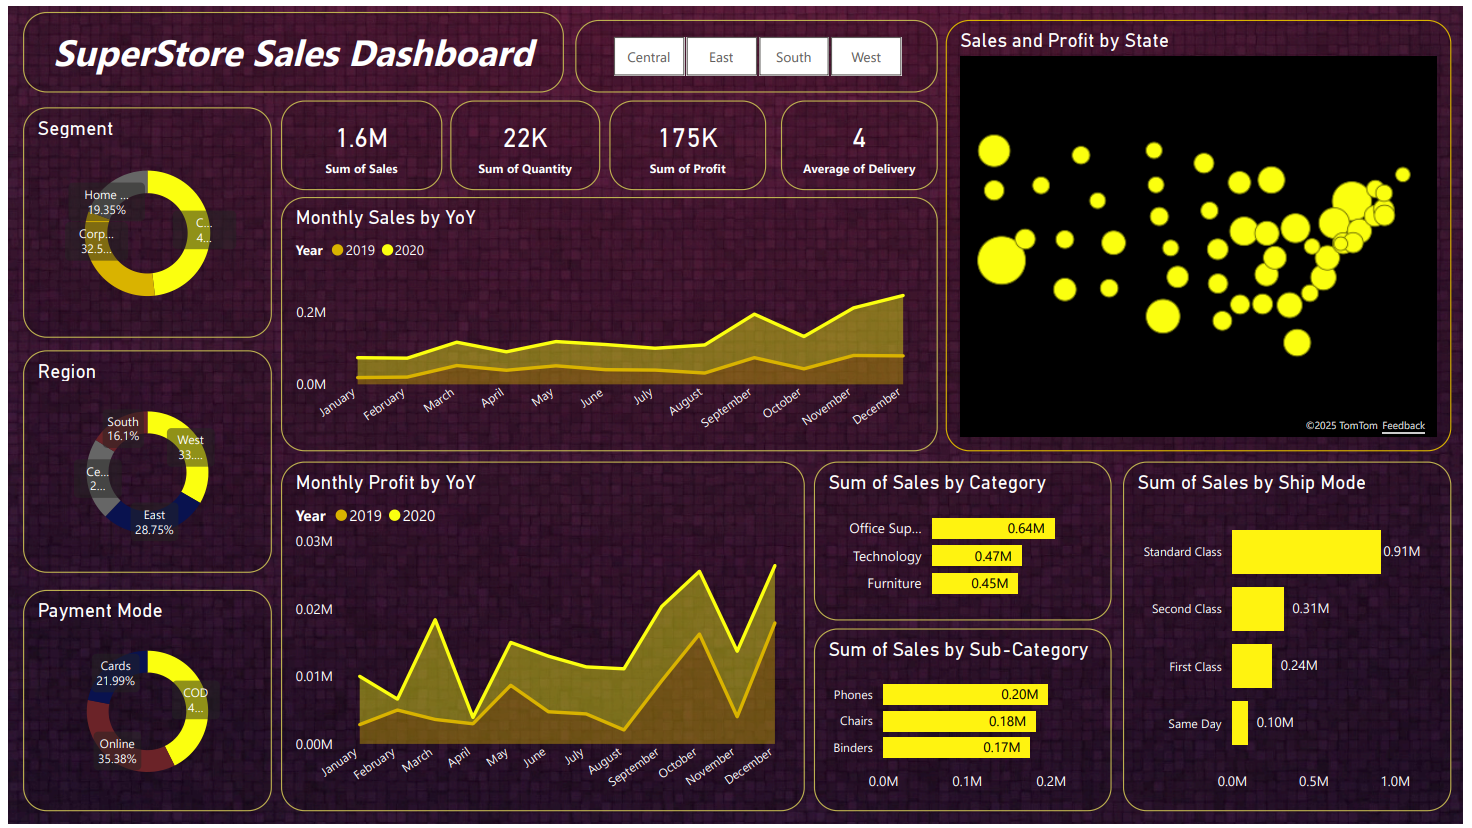

This screenshot's page, from the dashboard's own definition file:
{"tool":"powerbi","page":{"name":"Dashboard","canvas":[1280,720],"ordinal":0},"visuals":[{"type":"clusteredBarChart","fields":{"Category":["SuperStore_Sales_Dataset.Category"],"Y":["Sum(SuperStore_Sales_Dataset.Sales)"]},"box":[709.2,401.3,262.1,140],"z":0},{"type":"clusteredBarChart","fields":{"Y":["Sum(SuperStore_Sales_Dataset.Sales)"],"Category":["SuperStore_Sales_Dataset.Sub-Category"]},"box":[709.2,547.6,262.1,161.6],"z":1000},{"type":"clusteredBarChart","fields":{"Y":["Sum(SuperStore_Sales_Dataset.Sales)"],"Category":["SuperStore_Sales_Dataset.Ship Mode"]},"box":[981.2,401.3,289.1,307.9],"z":2000},{"type":"stackedAreaChart","title":"Monthly Sales by YoY","fields":{"Category":["SuperStore_Sales_Dataset.Order Date.Variation.Date Hierarchy.Month","SuperStore_Sales_Dataset.Order Date.Variation.Date Hierarchy.Day"],"Y":["Sum(SuperStore_Sales_Dataset.Sales)"],"Series":["SuperStore_Sales_Dataset.Order Date.Variation.Date Hierarchy.Year"]},"box":[239.7,167.9,578.2,224.4],"z":3000},{"type":"stackedAreaChart","title":"Monthly Profit by YoY","fields":{"Category":["SuperStore_Sales_Dataset.Order Date.Variation.Date Hierarchy.Month","SuperStore_Sales_Dataset.Order Date.Variation.Date Hierarchy.Day"],"Series":["SuperStore_Sales_Dataset.Order Date.Variation.Date Hierarchy.Year"],"Y":["Sum(SuperStore_Sales_Dataset.Profit)"]},"box":[239.7,401.3,461.4,307.9],"z":4000},{"type":"azureMap","title":"Sales and Profit by State","fields":{"Category":["SuperStore_Sales_Dataset.State"],"Size":["Sum(SuperStore_Sales_Dataset.Sales)"]},"box":[825,11.7,445.3,380.6],"z":4001},{"type":"donutChart","title":"Segment","fields":{"Category":["SuperStore_Sales_Dataset.Segment"],"Y":["Sum(SuperStore_Sales_Dataset.Sales)"]},"box":[13.5,88.9,218.2,202.9],"z":4002},{"type":"donutChart","title":"Region","fields":{"Category":["SuperStore_Sales_Dataset.Region"],"Y":["Sum(SuperStore_Sales_Dataset.Sales)"]},"box":[13.5,303.4,218.2,195.7],"z":4004},{"type":"donutChart","title":"Payment Mode","fields":{"Category":["SuperStore_Sales_Dataset.Payment Mode"],"Y":["Sum(SuperStore_Sales_Dataset.Sales)"]},"box":[13.5,513.5,218.2,195.7],"z":4005},{"type":"slicer","fields":{"Values":["SuperStore_Sales_Dataset.Region"]},"box":[499.2,11.7,318.7,64.6],"z":4006},{"type":"textbox","box":[13.5,5.4,475.8,70.9],"z":4007},{"type":"card","fields":{"Values":["Sum(SuperStore_Sales_Dataset.Sales)"]},"box":[239.7,82.6,141.8,79.9],"z":4008},{"type":"card","fields":{"Values":["Sum(SuperStore_Sales_Dataset.Quantity)"]},"box":[388.7,82.6,132,79.9],"z":4009},{"type":"card","fields":{"Values":["Sum(SuperStore_Sales_Dataset.Profit)"]},"box":[528.8,82.6,138.3,79.9],"z":4010},{"type":"card","fields":{"Values":["Avg(SuperStore_Sales_Dataset.AvgDelivery)"]},"box":[679.6,82.6,138.3,79.9],"z":4011}]}

Visuals, with their boxes in screenshot pixels (x1, y1, x2, y2), scaled from the page's 1280x720 canvas onto the 1472x828 screenshot:
clusteredBarChart - SuperStore_Sales_Dataset.Category x Sum(SuperStore_Sales_Dataset.Sales): rect(816, 461, 1117, 622)
clusteredBarChart - Sum(SuperStore_Sales_Dataset.Sales) x SuperStore_Sales_Dataset.Sub-Category: rect(816, 630, 1117, 816)
clusteredBarChart - Sum(SuperStore_Sales_Dataset.Sales) x SuperStore_Sales_Dataset.Ship Mode: rect(1128, 461, 1461, 816)
"Monthly Sales by YoY" stackedAreaChart: rect(276, 193, 941, 451)
"Monthly Profit by YoY" stackedAreaChart: rect(276, 461, 806, 816)
"Sales and Profit by State" azureMap: rect(949, 13, 1461, 451)
"Segment" donutChart: rect(16, 102, 266, 336)
"Region" donutChart: rect(16, 349, 266, 574)
"Payment Mode" donutChart: rect(16, 591, 266, 816)
slicer - SuperStore_Sales_Dataset.Region: rect(574, 13, 941, 88)
textbox: rect(16, 6, 563, 88)
card - Sum(SuperStore_Sales_Dataset.Sales): rect(276, 95, 439, 187)
card - Sum(SuperStore_Sales_Dataset.Quantity): rect(447, 95, 599, 187)
card - Sum(SuperStore_Sales_Dataset.Profit): rect(608, 95, 767, 187)
card - Avg(SuperStore_Sales_Dataset.AvgDelivery): rect(782, 95, 941, 187)
